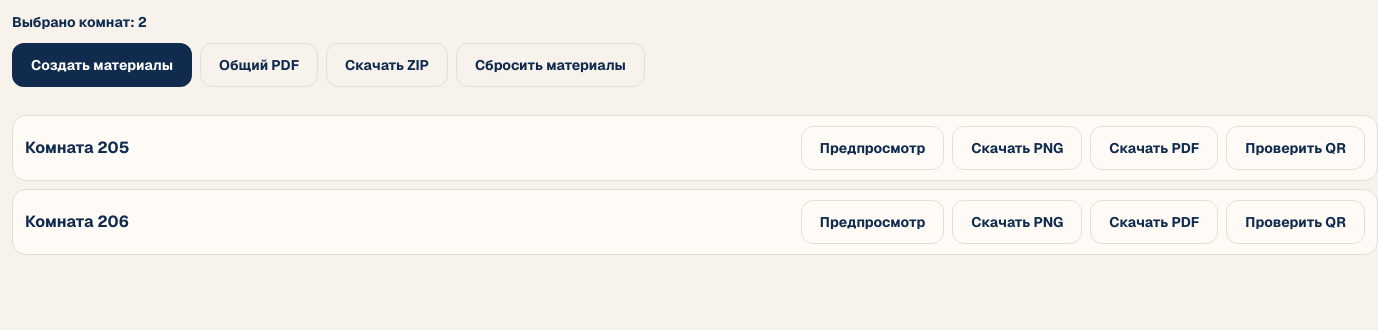
Test: AssetGenerator › verifies a QR only on request and reports a mismatch
Click the button with aria-label "Проверить QR 205". click: (1296, 148)
box: [1226,126,1365,170]
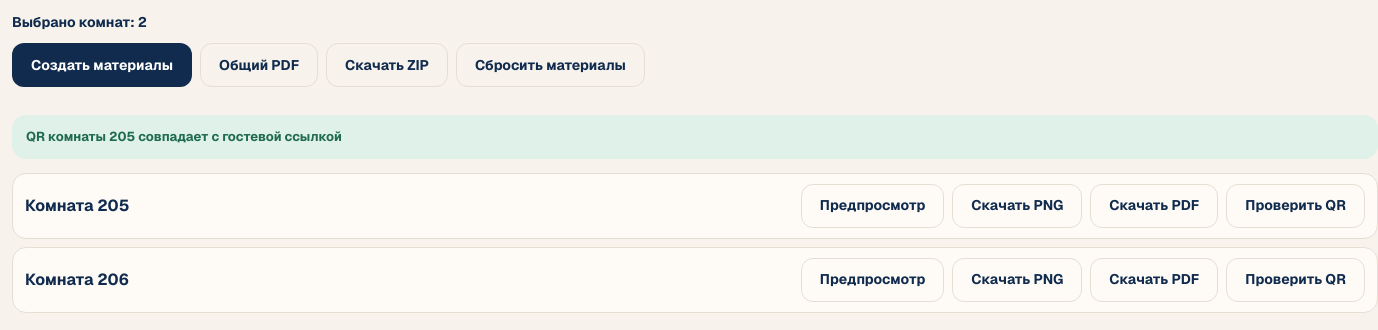
Check: the text "QR комнаты 205 совпадает с гостевой ссылкой" is shown, box [12,115,1377,158]
Click the button with aria-label "Проверить QR 206". click: (1296, 280)
box: [1226,258,1365,302]
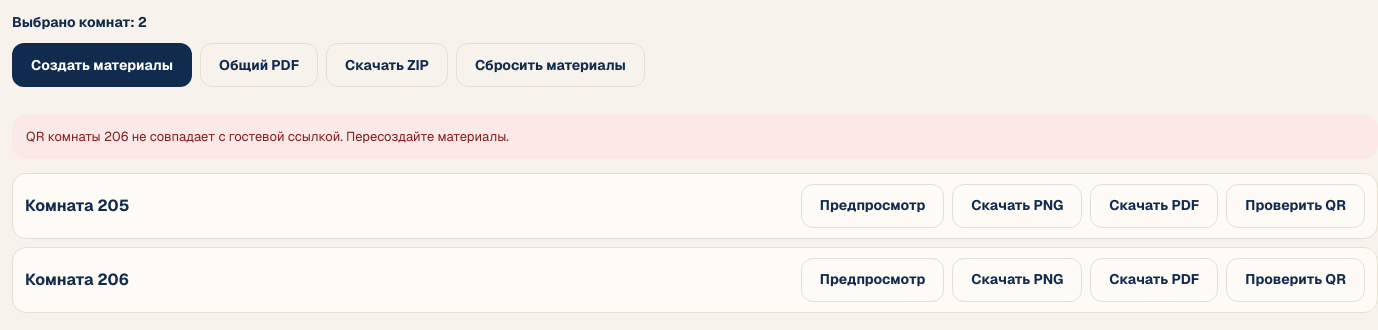
Check: the message shows "QR комнаты 206 не совпадает с гостевой ссылкой", box [26,128,509,145]
